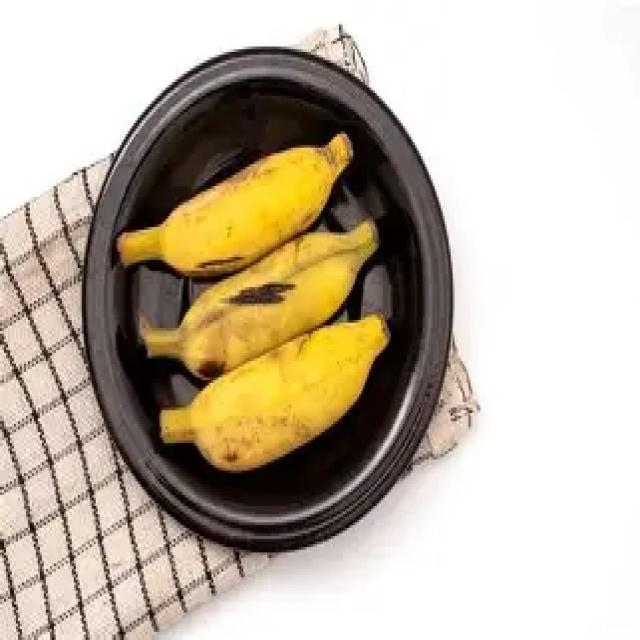BANANA: (116, 129, 392, 474)
